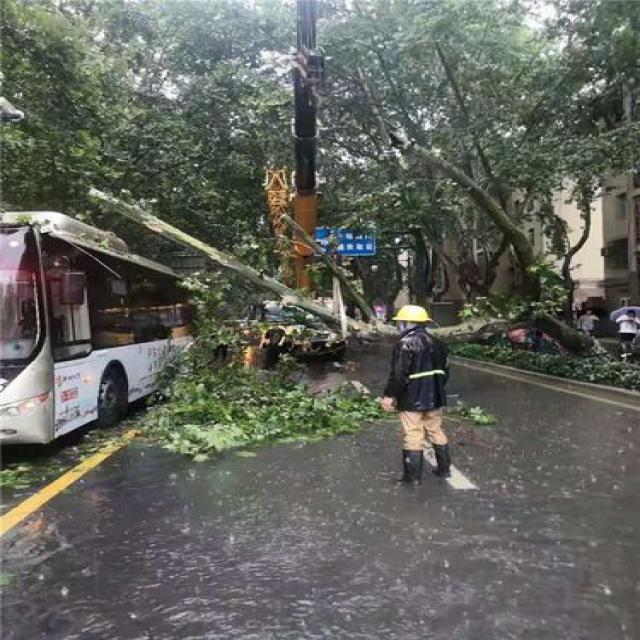fallen_object: (72, 132, 614, 368)
